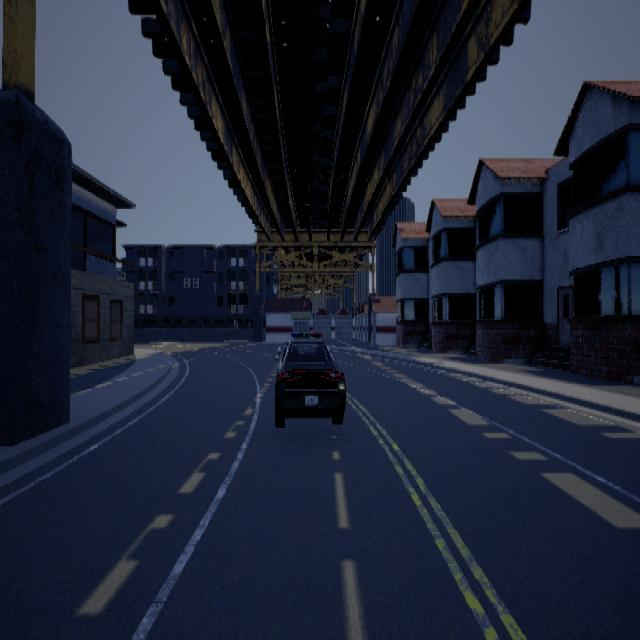vehicle: (275, 332, 347, 426)
